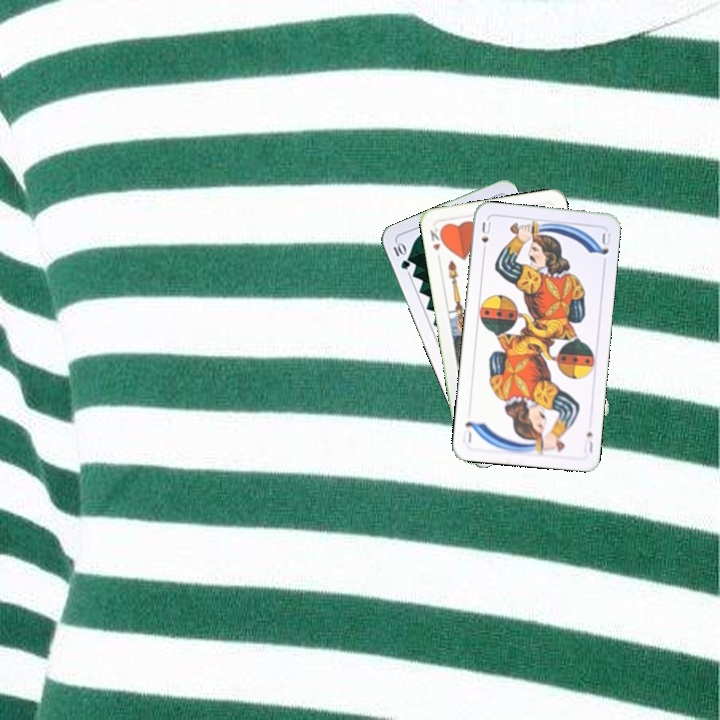G10: (389, 238, 413, 272)
HK: (426, 223, 447, 253)
SU: (477, 218, 493, 257), (579, 427, 596, 456)
